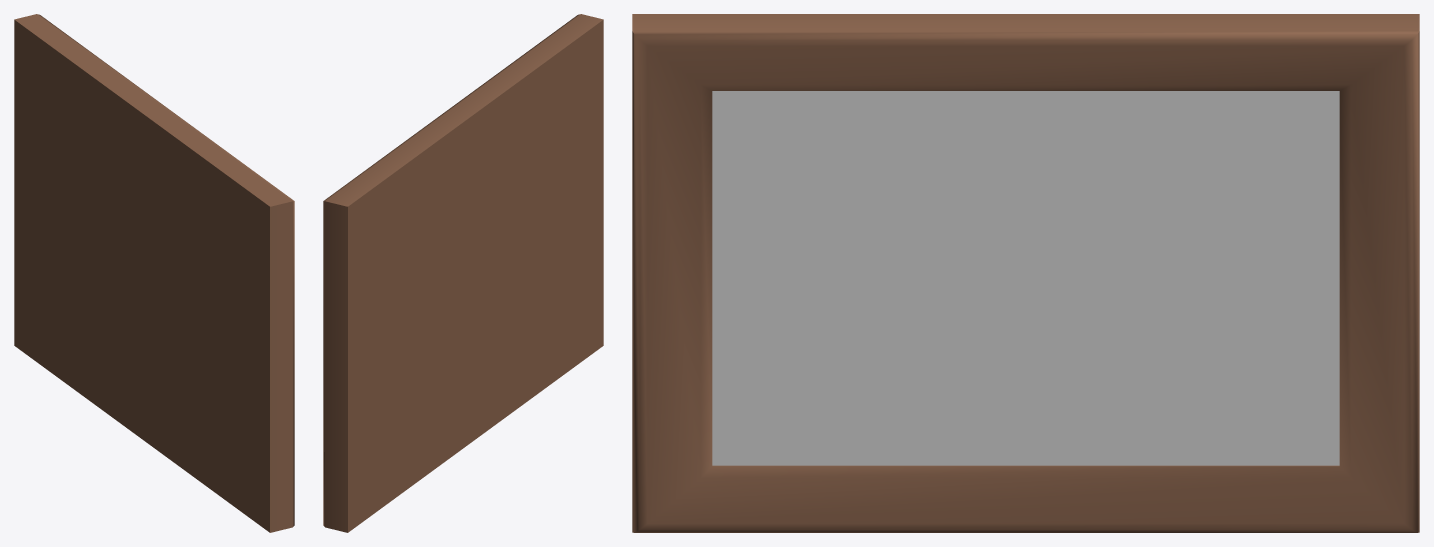
Rendered from Photo Frame03.fbx.
3 renders of one model, left to right at view 1: azimuth 30°, elevation 25°; view 2: azimuth 150°, elevation 25°; view 3: azimuth 270°, elevation 25°, orthographic. The views are drawn at different scales.
Visible parts, largest first — view 1: Picture Frame - 2 Mountains Spring; view 2: Picture Frame - 2 Mountains Spring; view 3: Picture Frame - 2 Mountains Spring.
Boxes of the visible parts, x1,y1,x2,y2 form: Picture Frame - 2 Mountains Spring: (14,14,294,532); Picture Frame - 2 Mountains Spring: (323,14,603,532); Picture Frame - 2 Mountains Spring: (632,14,1419,532).
Bounding box in the file's own units: 5.65 × 65.65 × 93.37.
